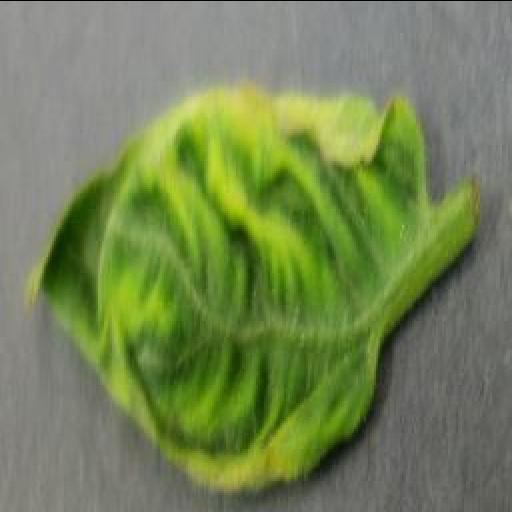disease_tomato: (22, 86, 430, 490)
